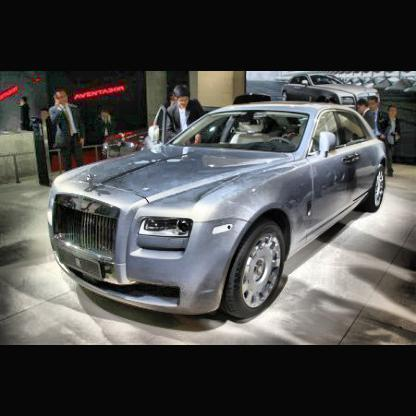Rolls-Royce Phantom Sedan 2012: (46, 99, 386, 328)
